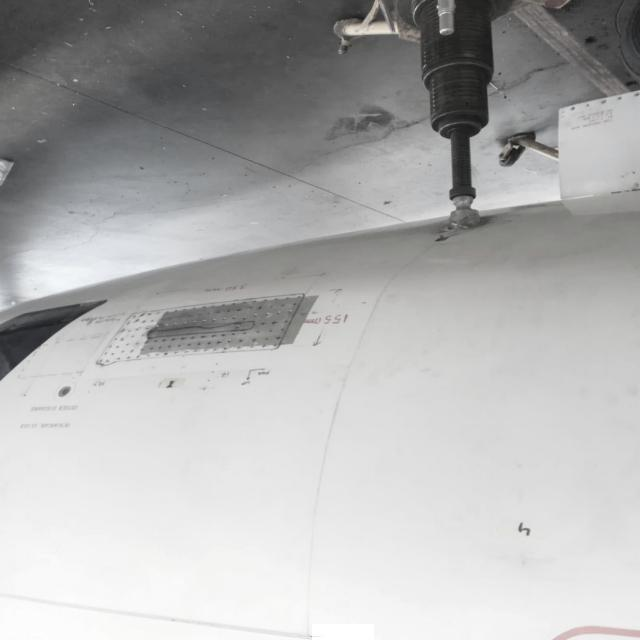crack: (313, 625, 375, 640)
